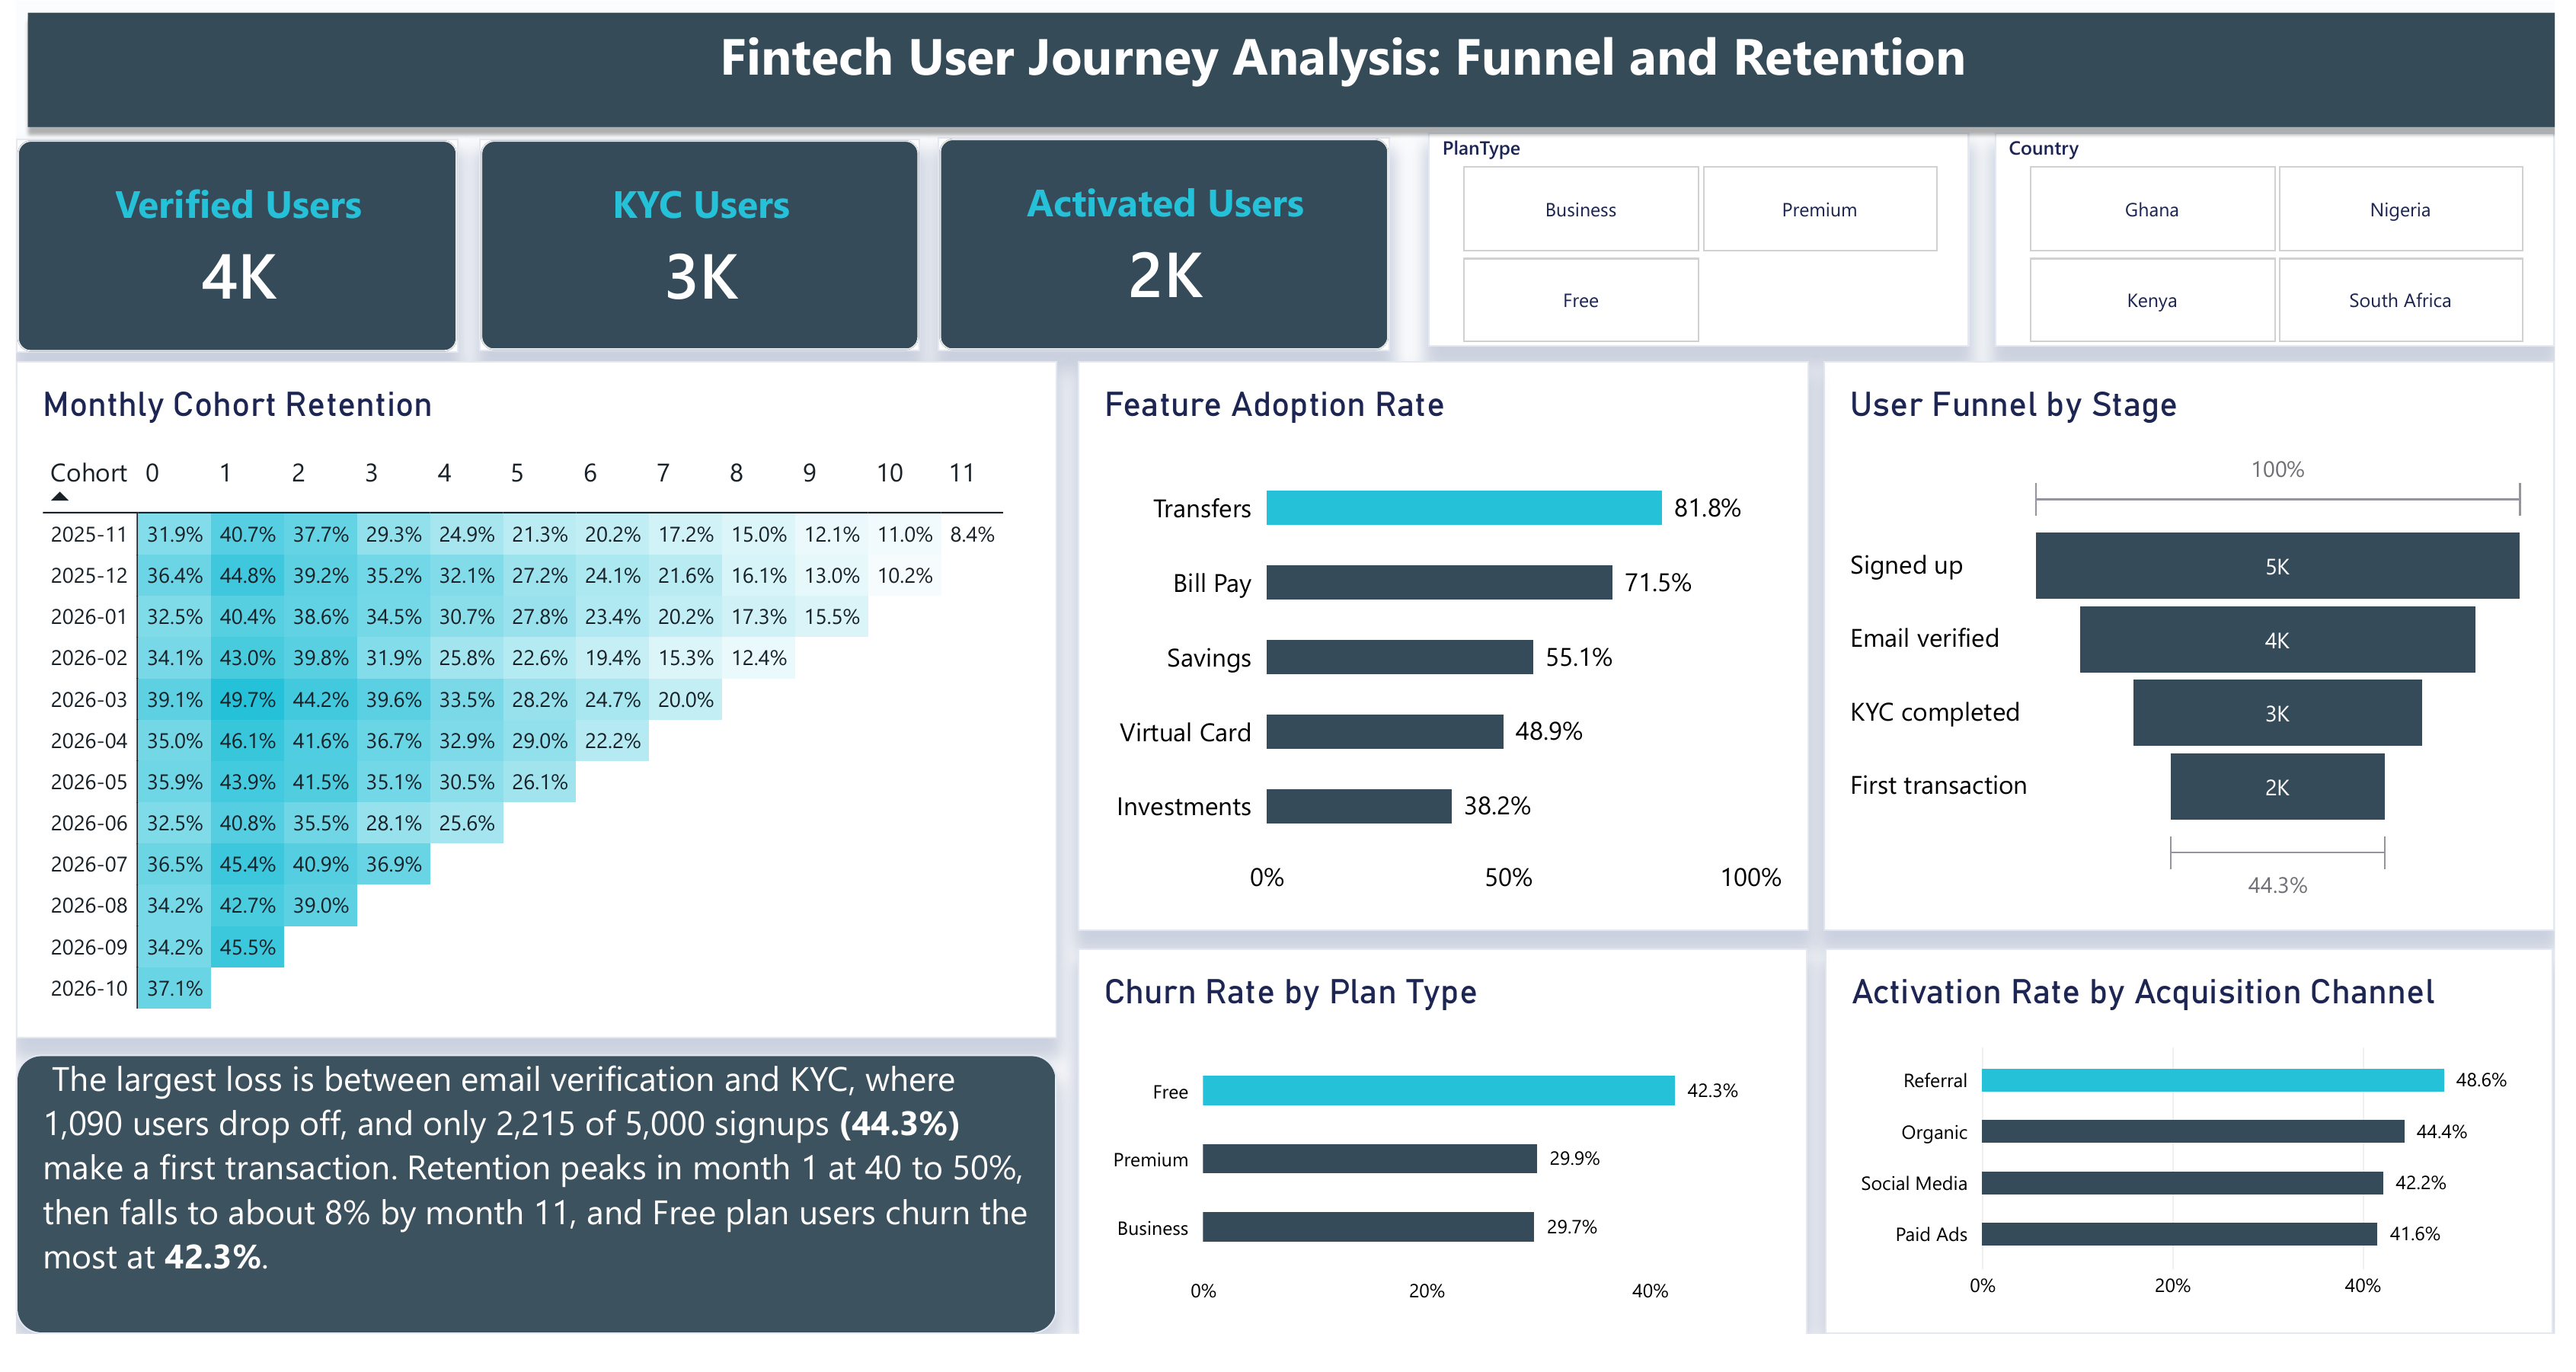

This screenshot's page, from the dashboard's own definition file:
{"tool":"powerbi","page":{"name":"Funnel and Retention","canvas":[1600,840],"ordinal":1},"visuals":[{"type":"cardVisual","fields":{"Data":["DAX.Verified Users"]},"box":[0,87.2,279.1,135.2],"z":0},{"type":"cardVisual","fields":{"Data":["DAX.KYC Users"]},"box":[292.2,87.2,277.6,133.7],"z":1000},{"type":"cardVisual","fields":{"Data":["DAX.Activated Users"]},"box":[580.7,85.7,285.7,135.1],"z":2000},{"type":"slicer","fields":{"Values":["vw_UserSummary.PlanType"]},"box":[889.6,83.1,341.6,135.1],"z":3000},{"type":"slicer","fields":{"Values":["vw_UserSummary.Country"]},"box":[1247.1,82.8,353.2,135.2],"z":4000},{"type":"funnel","title":"User Funnel by Stage","fields":{"Category":["vw_Funnel.Stage"],"Y":["Sum(vw_Funnel.Users)"]},"box":[1139,227.3,461,358.4],"z":5000},{"type":"clusteredBarChart","title":"Activation Rate by Acquisition Channel","fields":{"Category":["vw_UserSummary.AcquisitionChannel"],"Y":["DAX.Activation Rate"]},"box":[1139.5,597.4,459.3,242.7],"z":6000},{"type":"pivotTable","title":"Monthly Cohort Retention","fields":{"Columns":["vw_CohortRetention.MonthNumber"],"Rows":["vw_CohortRetention.Cohort"],"Values":["Sum(vw_CohortRetention.RetentionRate)"]},"box":[0,226.7,655.5,427.3],"z":7000},{"type":"clusteredBarChart","title":"Feature Adoption Rate","fields":{"Category":["vw_FeatureAdoption.FeatureName"],"Y":["Max(vw_FeatureAdoption.AdoptionRate)"]},"box":[668.8,227.3,461,358.4],"z":8000},{"type":"shape","box":[0,664.2,655.5,175.9],"z":8500},{"type":"clusteredBarChart","title":"Churn Rate by Plan Type","fields":{"Category":["vw_UserSummary.PlanType"],"Y":["DAX.Churn Rate"]},"box":[668.6,597.4,460.8,245.6],"z":9000},{"type":"shape","box":[0,0,1657.2,87],"z":10000},{"type":"textbox","box":[40.1,12.2,1592.4,57.6],"z":11000},{"type":"textbox","box":[17.4,664.2,625,165.7],"z":12000}]}

Visuals, with their boxes in screenshot pixels (x1, y1, x2, y2), scaled from the page's 1600x840 canvas onto the 2576x1372 screenshot:
cardVisual - DAX.Verified Users: (0, 142, 449, 363)
cardVisual - DAX.KYC Users: (471, 142, 917, 361)
cardVisual - DAX.Activated Users: (935, 140, 1395, 360)
slicer - vw_UserSummary.PlanType: (1432, 136, 1982, 357)
slicer - vw_UserSummary.Country: (2008, 136, 2575, 356)
"User Funnel by Stage" funnel: (1834, 371, 2575, 957)
"Activation Rate by Acquisition Channel" clusteredBarChart: (1835, 976, 2574, 1371)
"Monthly Cohort Retention" pivotTable: (0, 370, 1056, 1068)
"Feature Adoption Rate" clusteredBarChart: (1077, 371, 1819, 957)
shape: (0, 1085, 1056, 1371)
"Churn Rate by Plan Type" clusteredBarChart: (1076, 976, 1818, 1371)
shape: (0, 0, 2575, 142)
textbox: (65, 20, 2575, 114)
textbox: (28, 1085, 1034, 1355)
